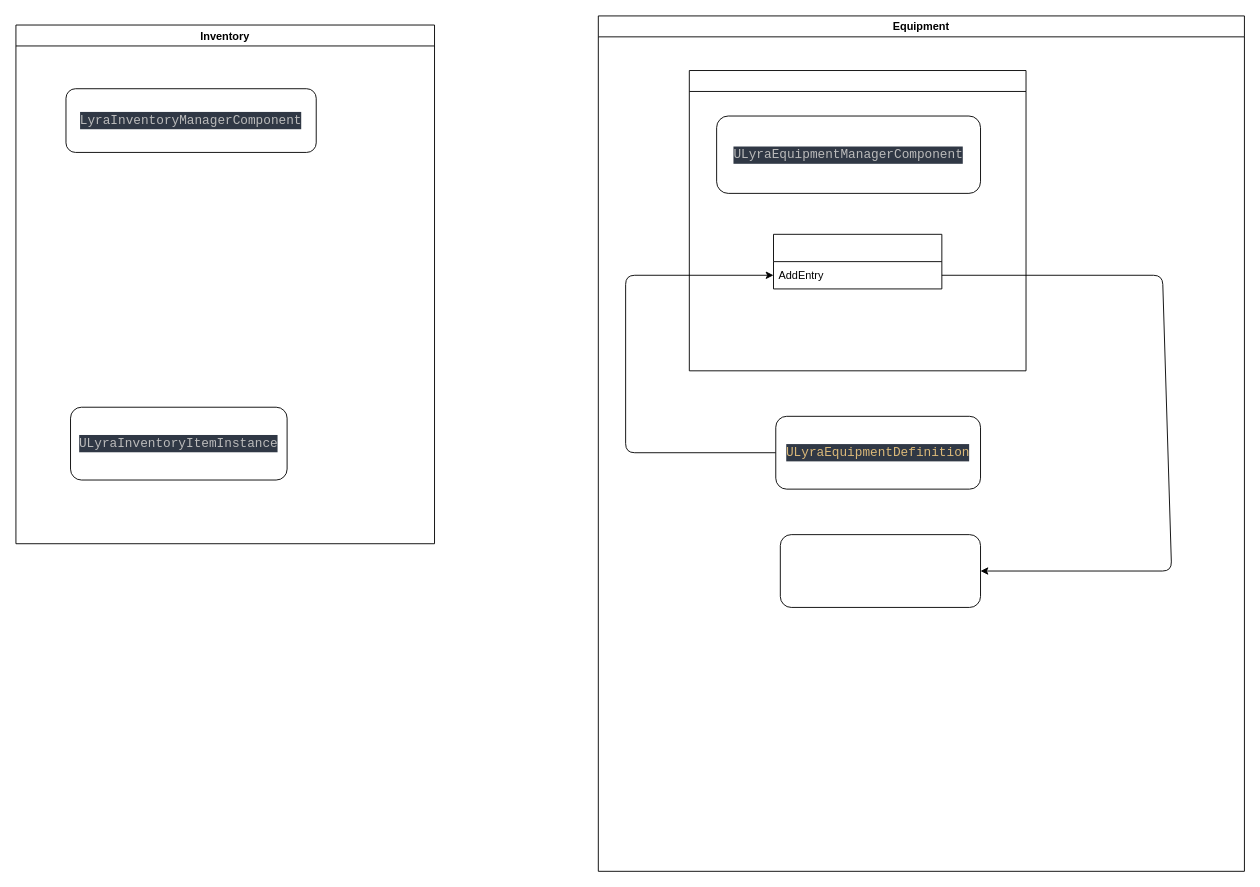
Image size: 1260x887. Some labels were removed from this diagram. The box of each missing label's shape, as (x1, y1, x2, y2) in pixels:
FLyraEquipmentList: (773, 233, 942, 289)
ULyraEquipmentInstance: (779, 534, 981, 607)
Vertical Container: (688, 70, 1026, 371)
